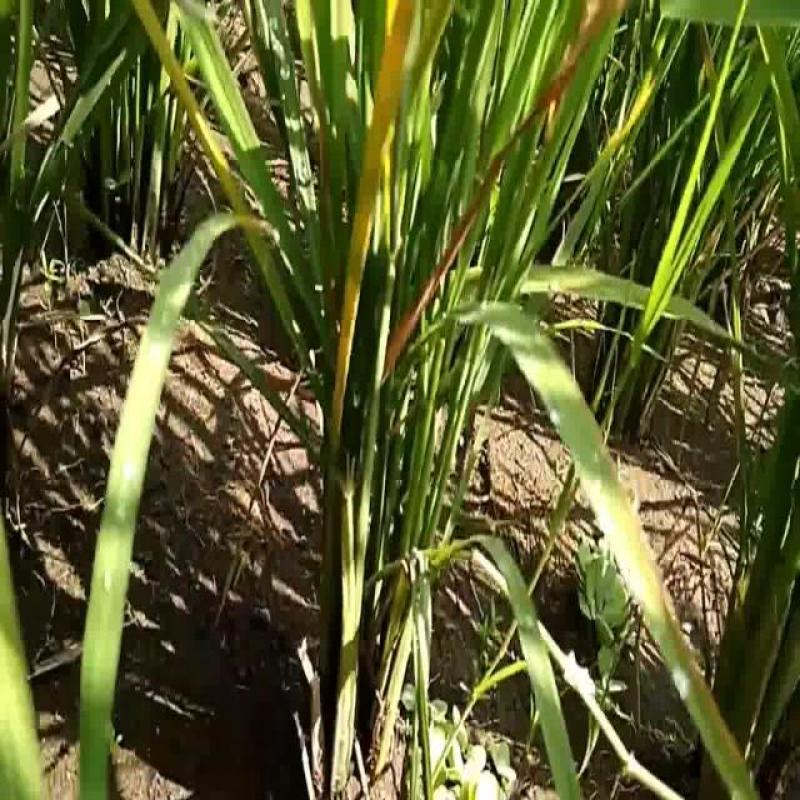Rice Tungro: (383, 12, 615, 396), (317, 11, 425, 464), (134, 3, 246, 242)
